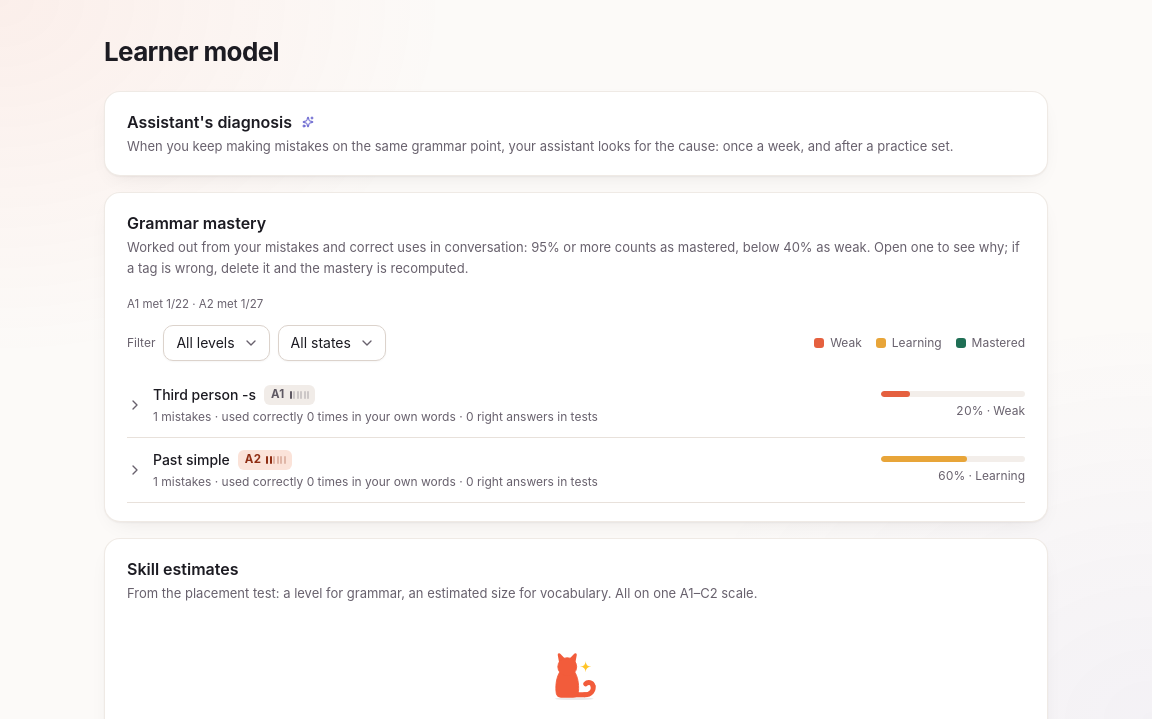
Test case: LearnerApp › lists grammar points with mastery in words and filters them
Expected: the text "20% · Weak" is shown, 956,403 -> 1025,419
Expected: the text with test id "level-coverage" reads "A1 met 1/22 · A2 met 1/27", 127,297 -> 263,311
What coordinates should you click on to do the following:
click the dropdown named "Filter by level"
I would click on:
 (216, 343)
Its box is 163,325 -> 270,361.
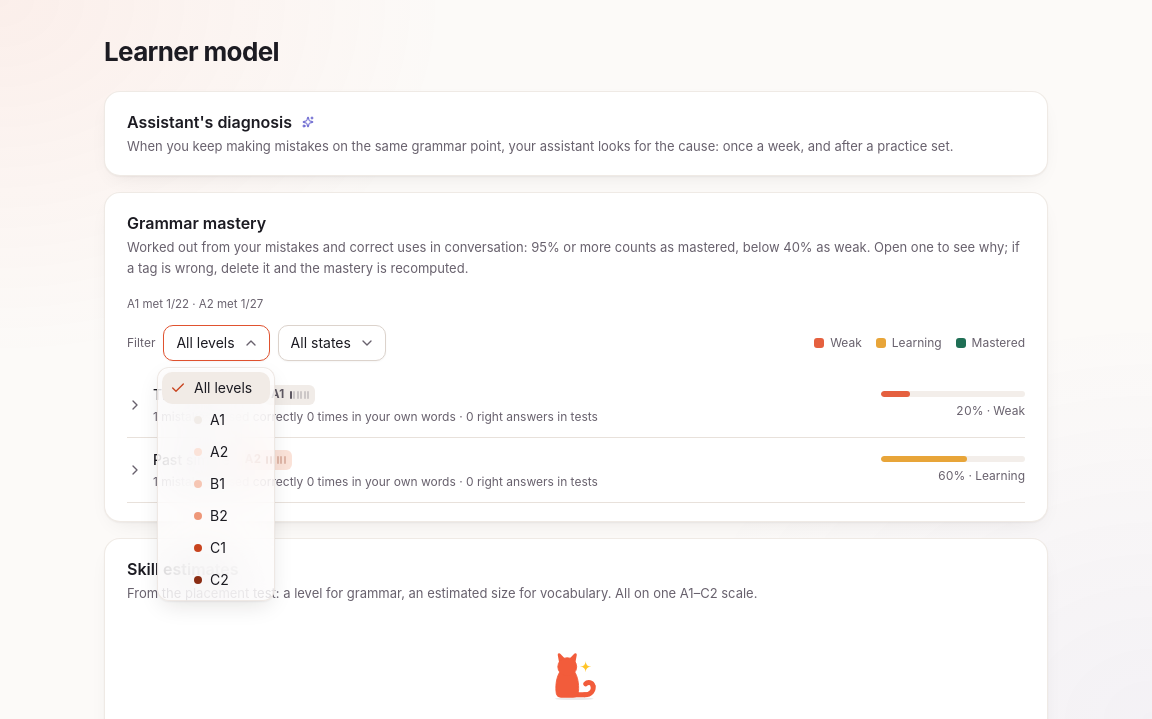
What coordinates should you click on to do the following:
click the option "A2"
I would click on:
 (211, 452)
Its box is 194,443 -> 228,460.
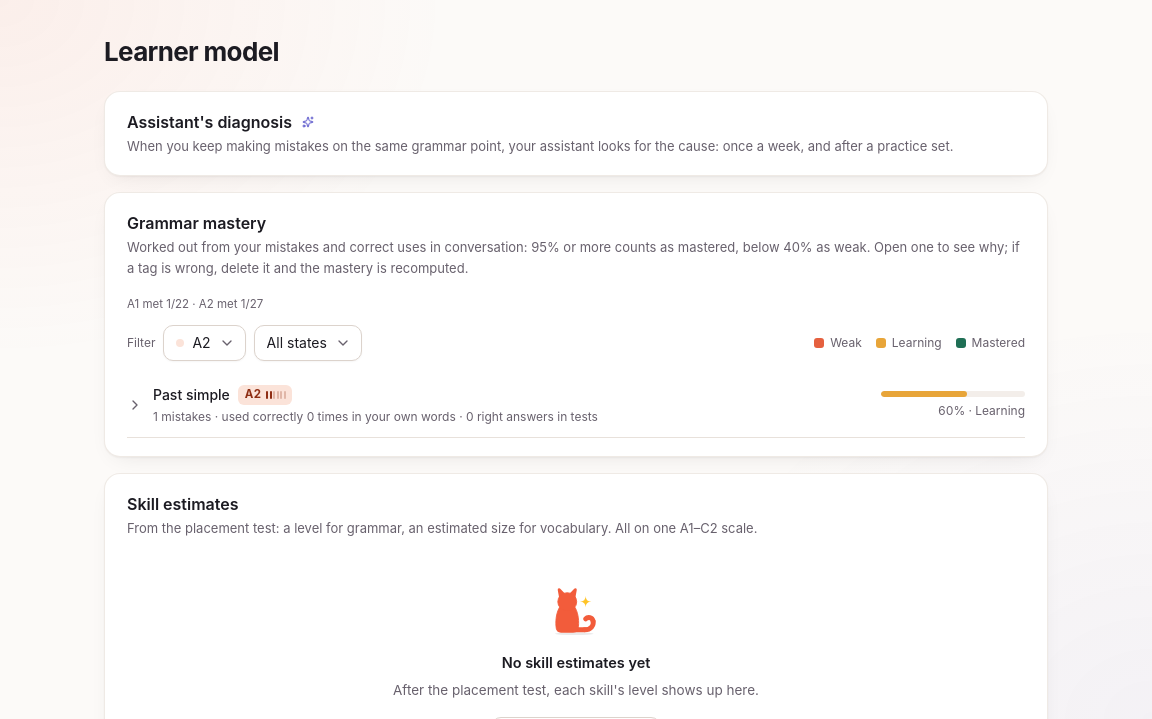
What coordinates should you click on to do the following:
click the dropdown named "Filter by state"
I would click on:
 (308, 343)
Its box is 254,325 -> 362,361.
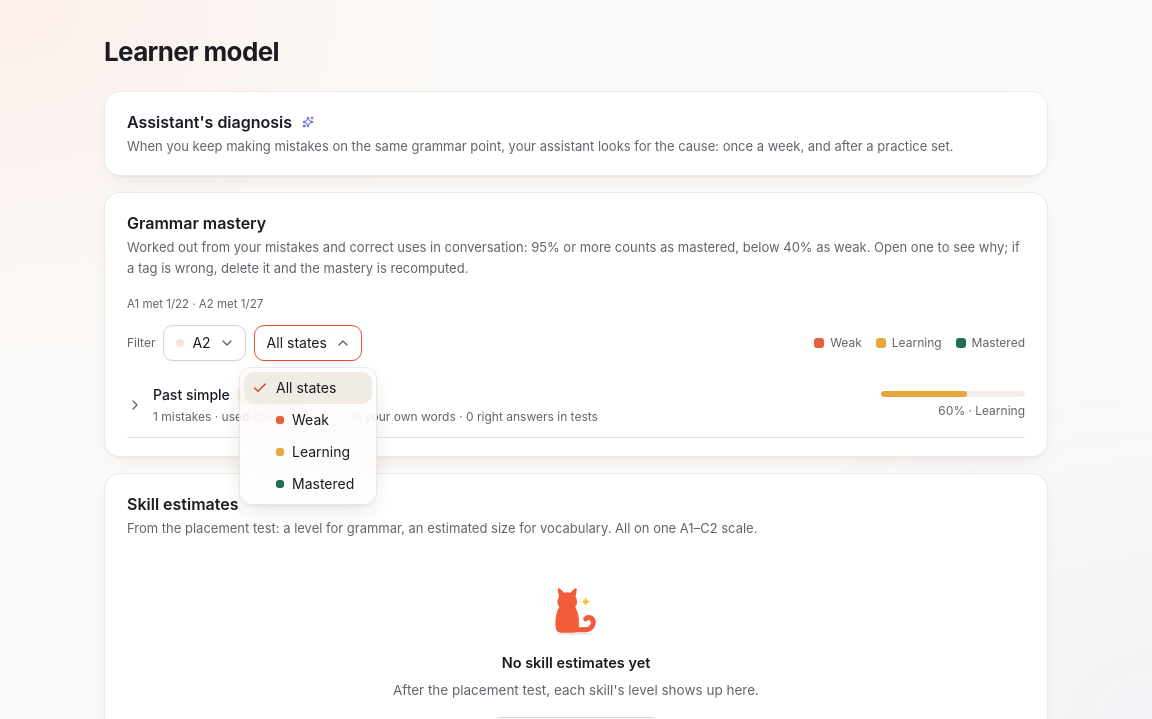
What coordinates should you click on to do the following:
click the option "Weak"
I would click on:
 (302, 420)
Its box is 276,411 -> 329,428.
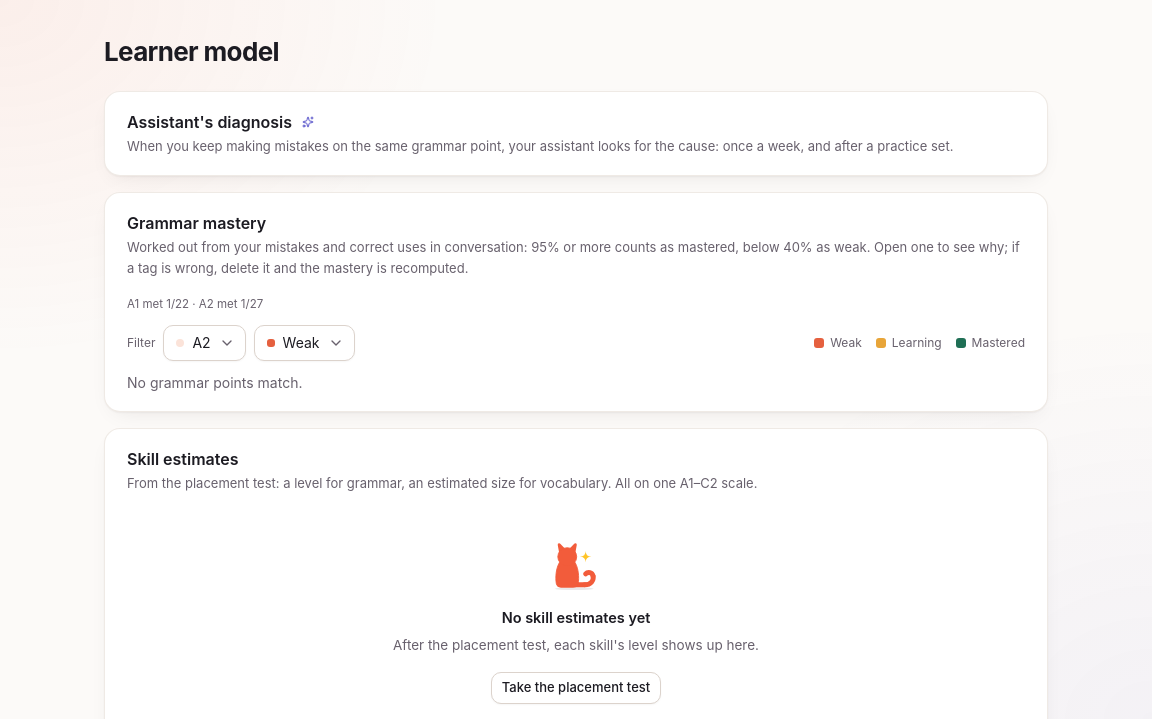
Now the text "No grammar points match." is shown, box 127,374 -> 302,391
